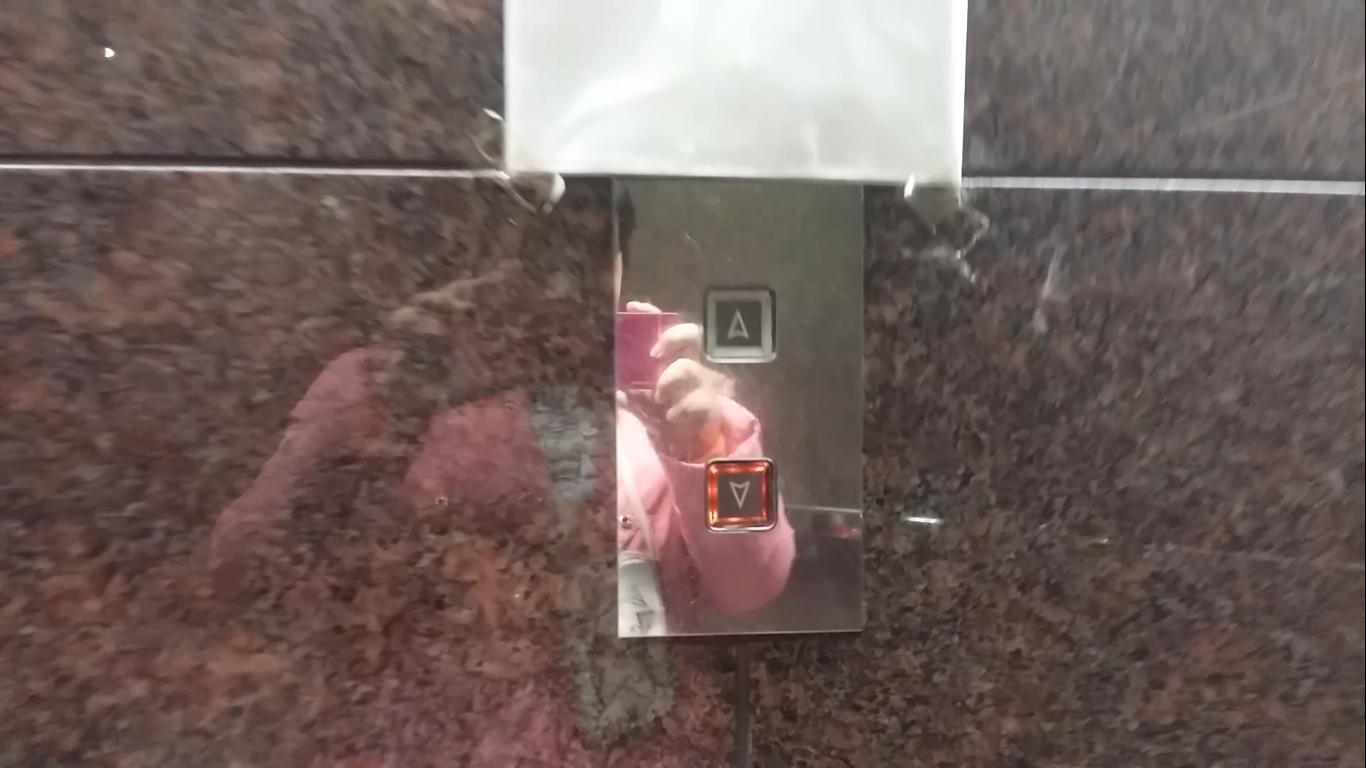down: (701, 456, 778, 534)
up: (700, 284, 777, 364)
